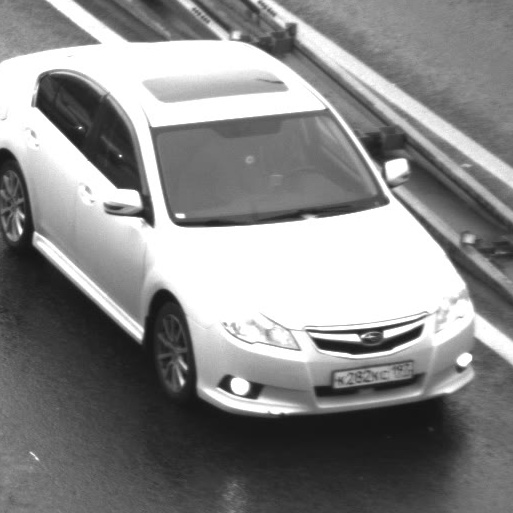plate: (322, 351, 421, 395)
